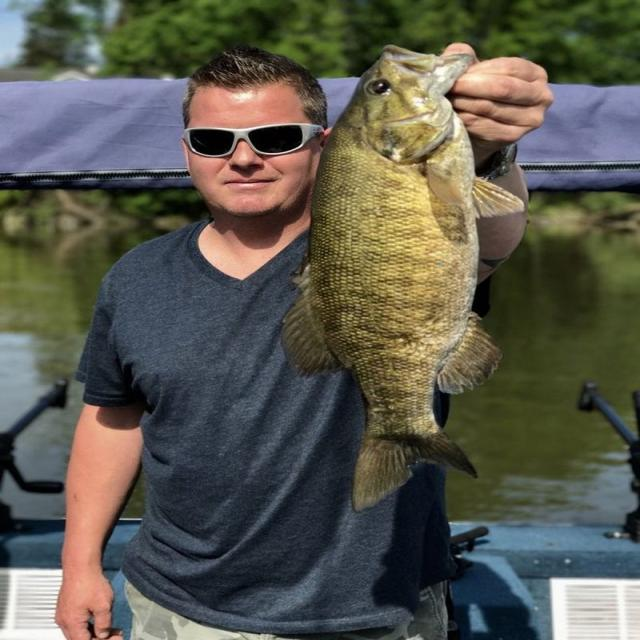Bass - Smallmouth: (283, 46, 523, 510)
